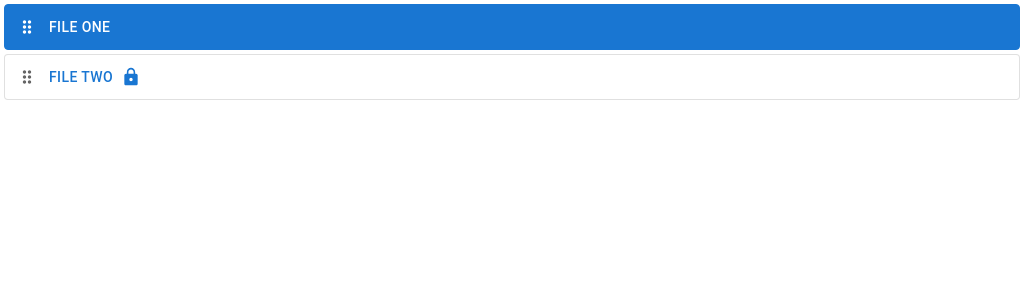
EditorWorkingFiles › moves a locked file without selecting it, keeps focus and selection, and announces the result
The width and height of the screenshot is (1024, 298).
Click the button named "Reorder File Two" at (27, 77), box [5,55,49,99]
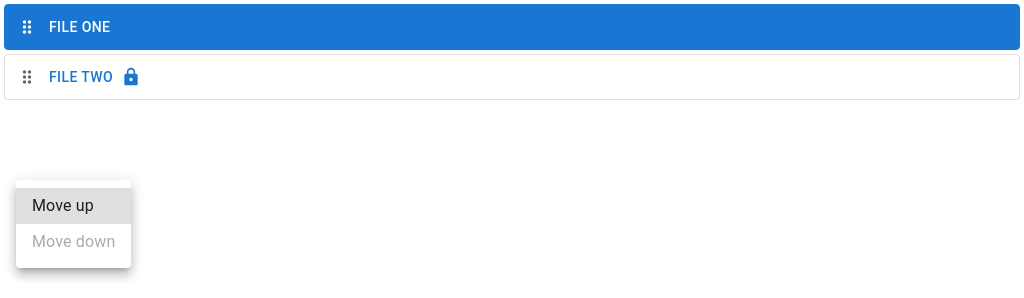
expect the menu named "Reorder File Two" is shown: met, box [16,180,131,268]
Click the menu item with aria-label "Move up File Two" at (74, 206), box [16,188,131,224]
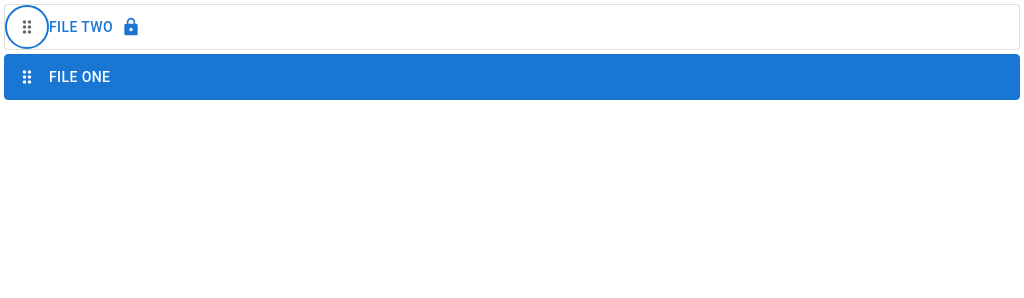
expect the button "File One" is shown: met, box [49,55,1019,99]
expect the button named "Reorder File Two" is collapsed: met, box [5,5,49,49]
